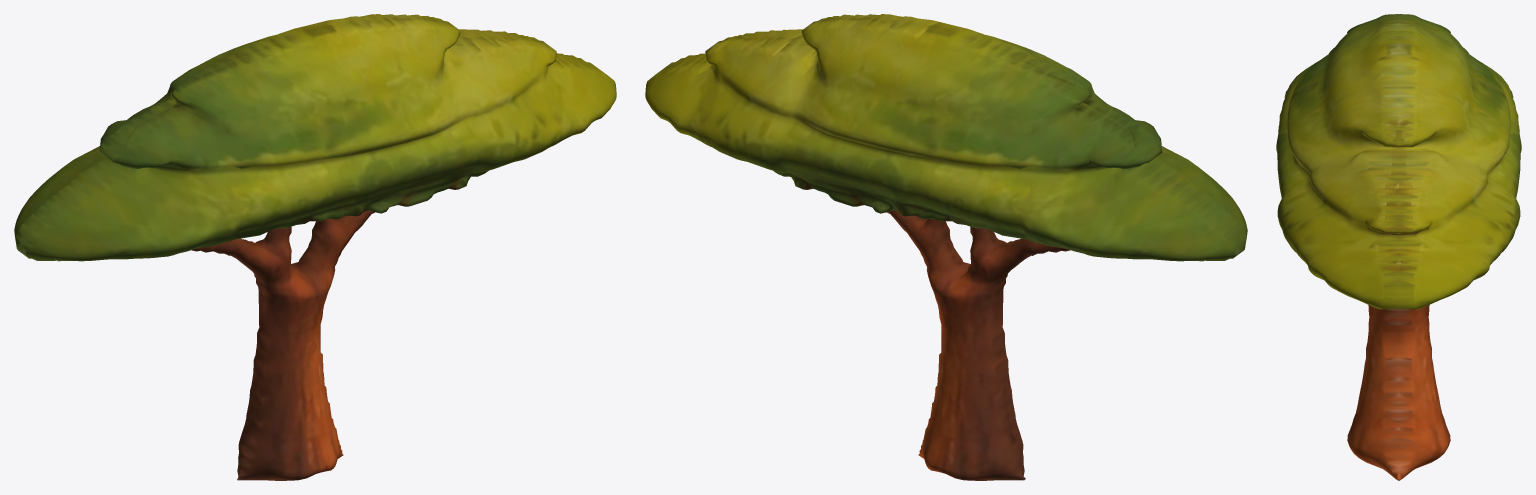
File: 02_acacia_trees_r01_c02.glb
The picture shows the model from 3 angles, left to right: view 1: azimuth 30°, elevation 25°; view 2: azimuth 150°, elevation 25°; view 3: azimuth 270°, elevation 25°; orthographic projection. The views are drawn at different scales.
Parts seen in each view (by area): view 1: 02_acacia_trees_r01_c02; view 2: 02_acacia_trees_r01_c02; view 3: 02_acacia_trees_r01_c02.
Boxes of the visible parts, bbox=[...] form: 02_acacia_trees_r01_c02: bbox=[14, 14, 616, 480]; 02_acacia_trees_r01_c02: bbox=[645, 14, 1247, 480]; 02_acacia_trees_r01_c02: bbox=[1276, 14, 1521, 480].
Bounding box in the file's own units: 3.69 × 2.59 × 1.37.
1 material, 1 textured.
